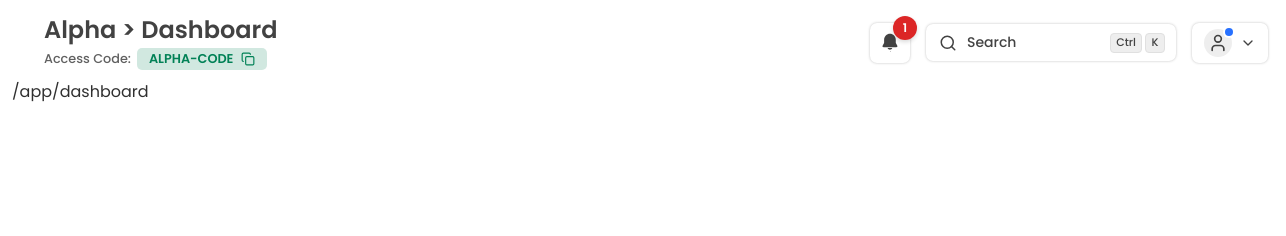
Test: Header — opening a join-request notification › join_request opens New join request
Click the button named "Notifications". click: click(890, 43)
box: [870,23,910,63]
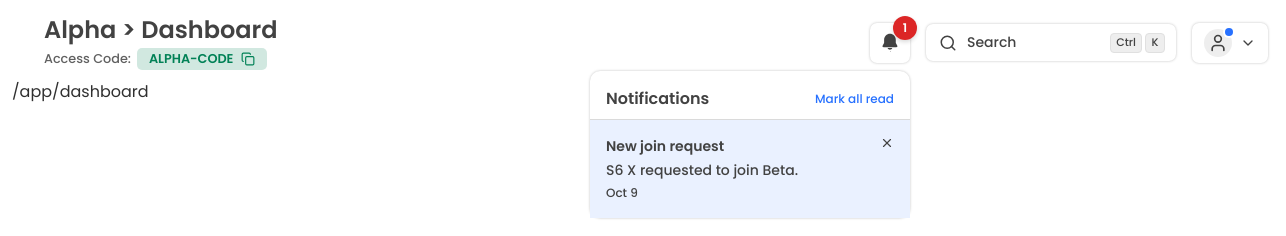
Click the text "New join request". click: click(665, 146)
box: [606,136,724,156]
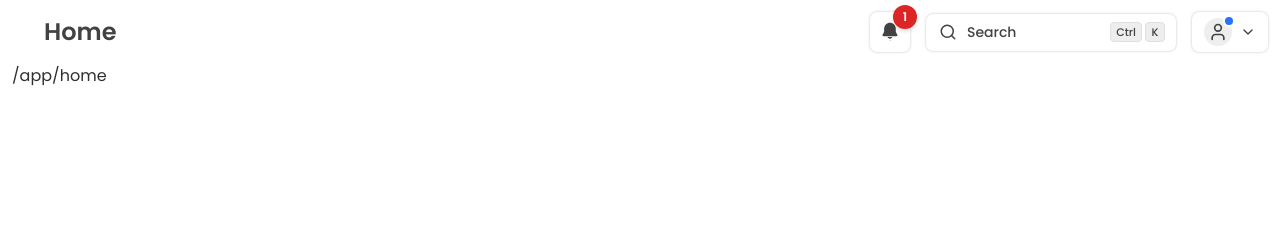
Check: the text with test id "path" reads "/app/home", box [12,64,107,87]
